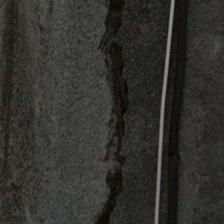Crack: (45, 3, 88, 220)
